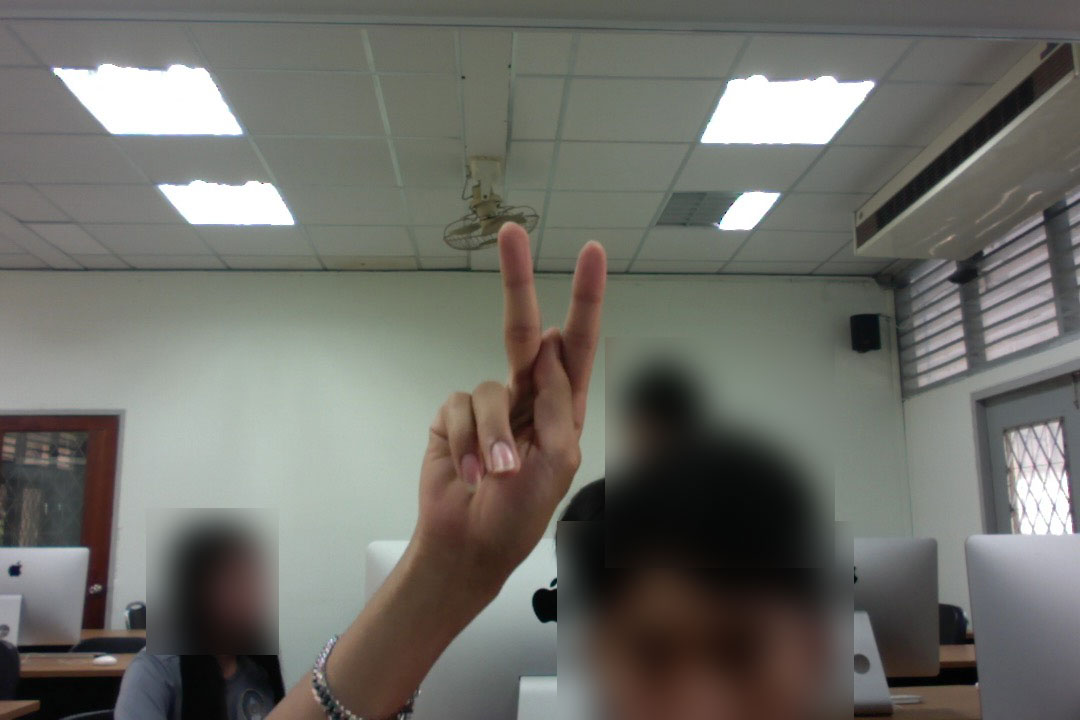ko: (394, 212, 622, 560)
